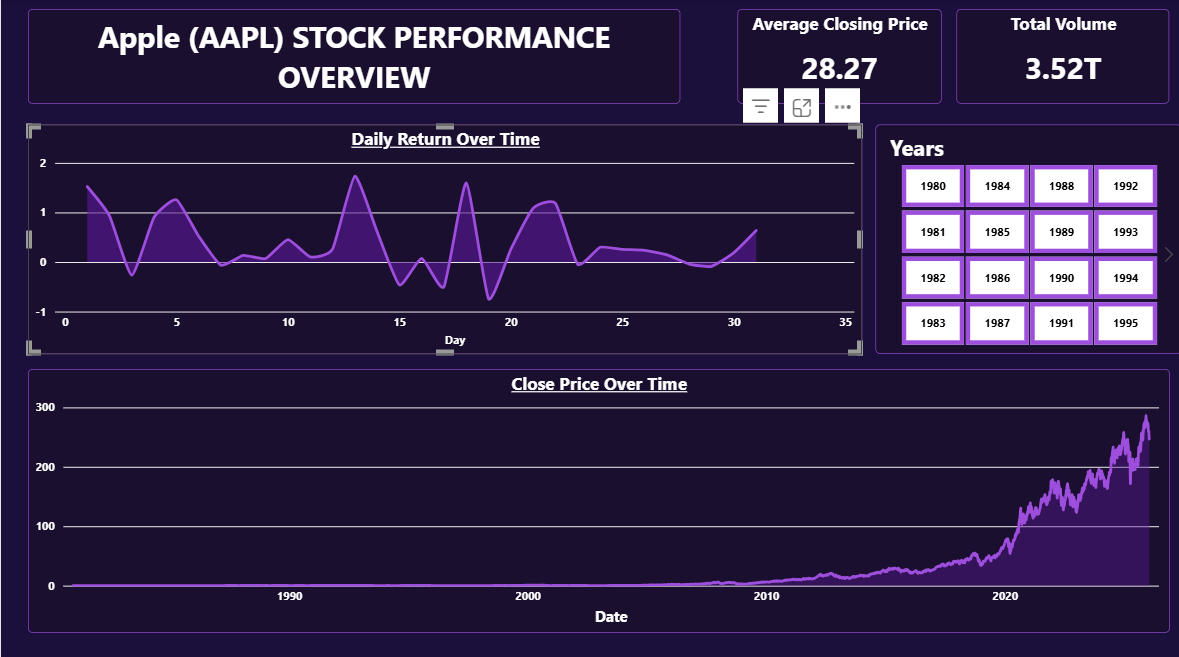

This screenshot's page, from the dashboard's own definition file:
{"tool":"powerbi","page":{"name":"STOCK PERFORMANCE OVERVIEW","canvas":[1280,720],"ordinal":0},"visuals":[{"type":"lineChart","title":"Close Price Over Time","fields":{"Y":["Sum(aapl_master_enriched.close)"],"Category":["aapl_master_enriched( FACT TABLE.date"]},"box":[29.3,403.4,1237.8,286.3],"z":0},{"type":"areaChart","title":"Daily Return Over Time","fields":{"Category":["aapl_master_enriched.date.Variation.Date Hierarchy.Day"],"Y":["Sum(aapl_master_enriched.return_1d)"]},"box":[29.3,138.3,904.4,248.9],"z":1000},{"type":"card","title":"Average Closing Price","fields":{"Values":["aapl_master_enriched( FACT TABLE.Average Close Price"]},"box":[798.6,13,221.2,102.5],"z":2000},{"type":"card","title":"Total Volume","fields":{"Values":["aapl_master_enriched( FACT TABLE.Total Volume"]},"box":[1036.1,13,231,102.5],"z":3000},{"type":"slicer","fields":{"Values":["aapl_master_enriched.year"]},"box":[948.3,138.3,318.8,248.9],"z":4000},{"type":"textbox","box":[29.3,13,707.5,102.5],"z":5000}]}

Visuals, with their boxes in screenshot pixels (x1, y1, x2, y2), scaled from the page's 1280x720 canvas onto the 1179x657 screenshot:
"Close Price Over Time" lineChart: select_region(27, 368, 1167, 629)
"Daily Return Over Time" areaChart: select_region(27, 126, 860, 353)
"Average Closing Price" card: select_region(736, 12, 939, 105)
"Total Volume" card: select_region(954, 12, 1167, 105)
slicer - aapl_master_enriched.year: select_region(873, 126, 1167, 353)
textbox: select_region(27, 12, 679, 105)
